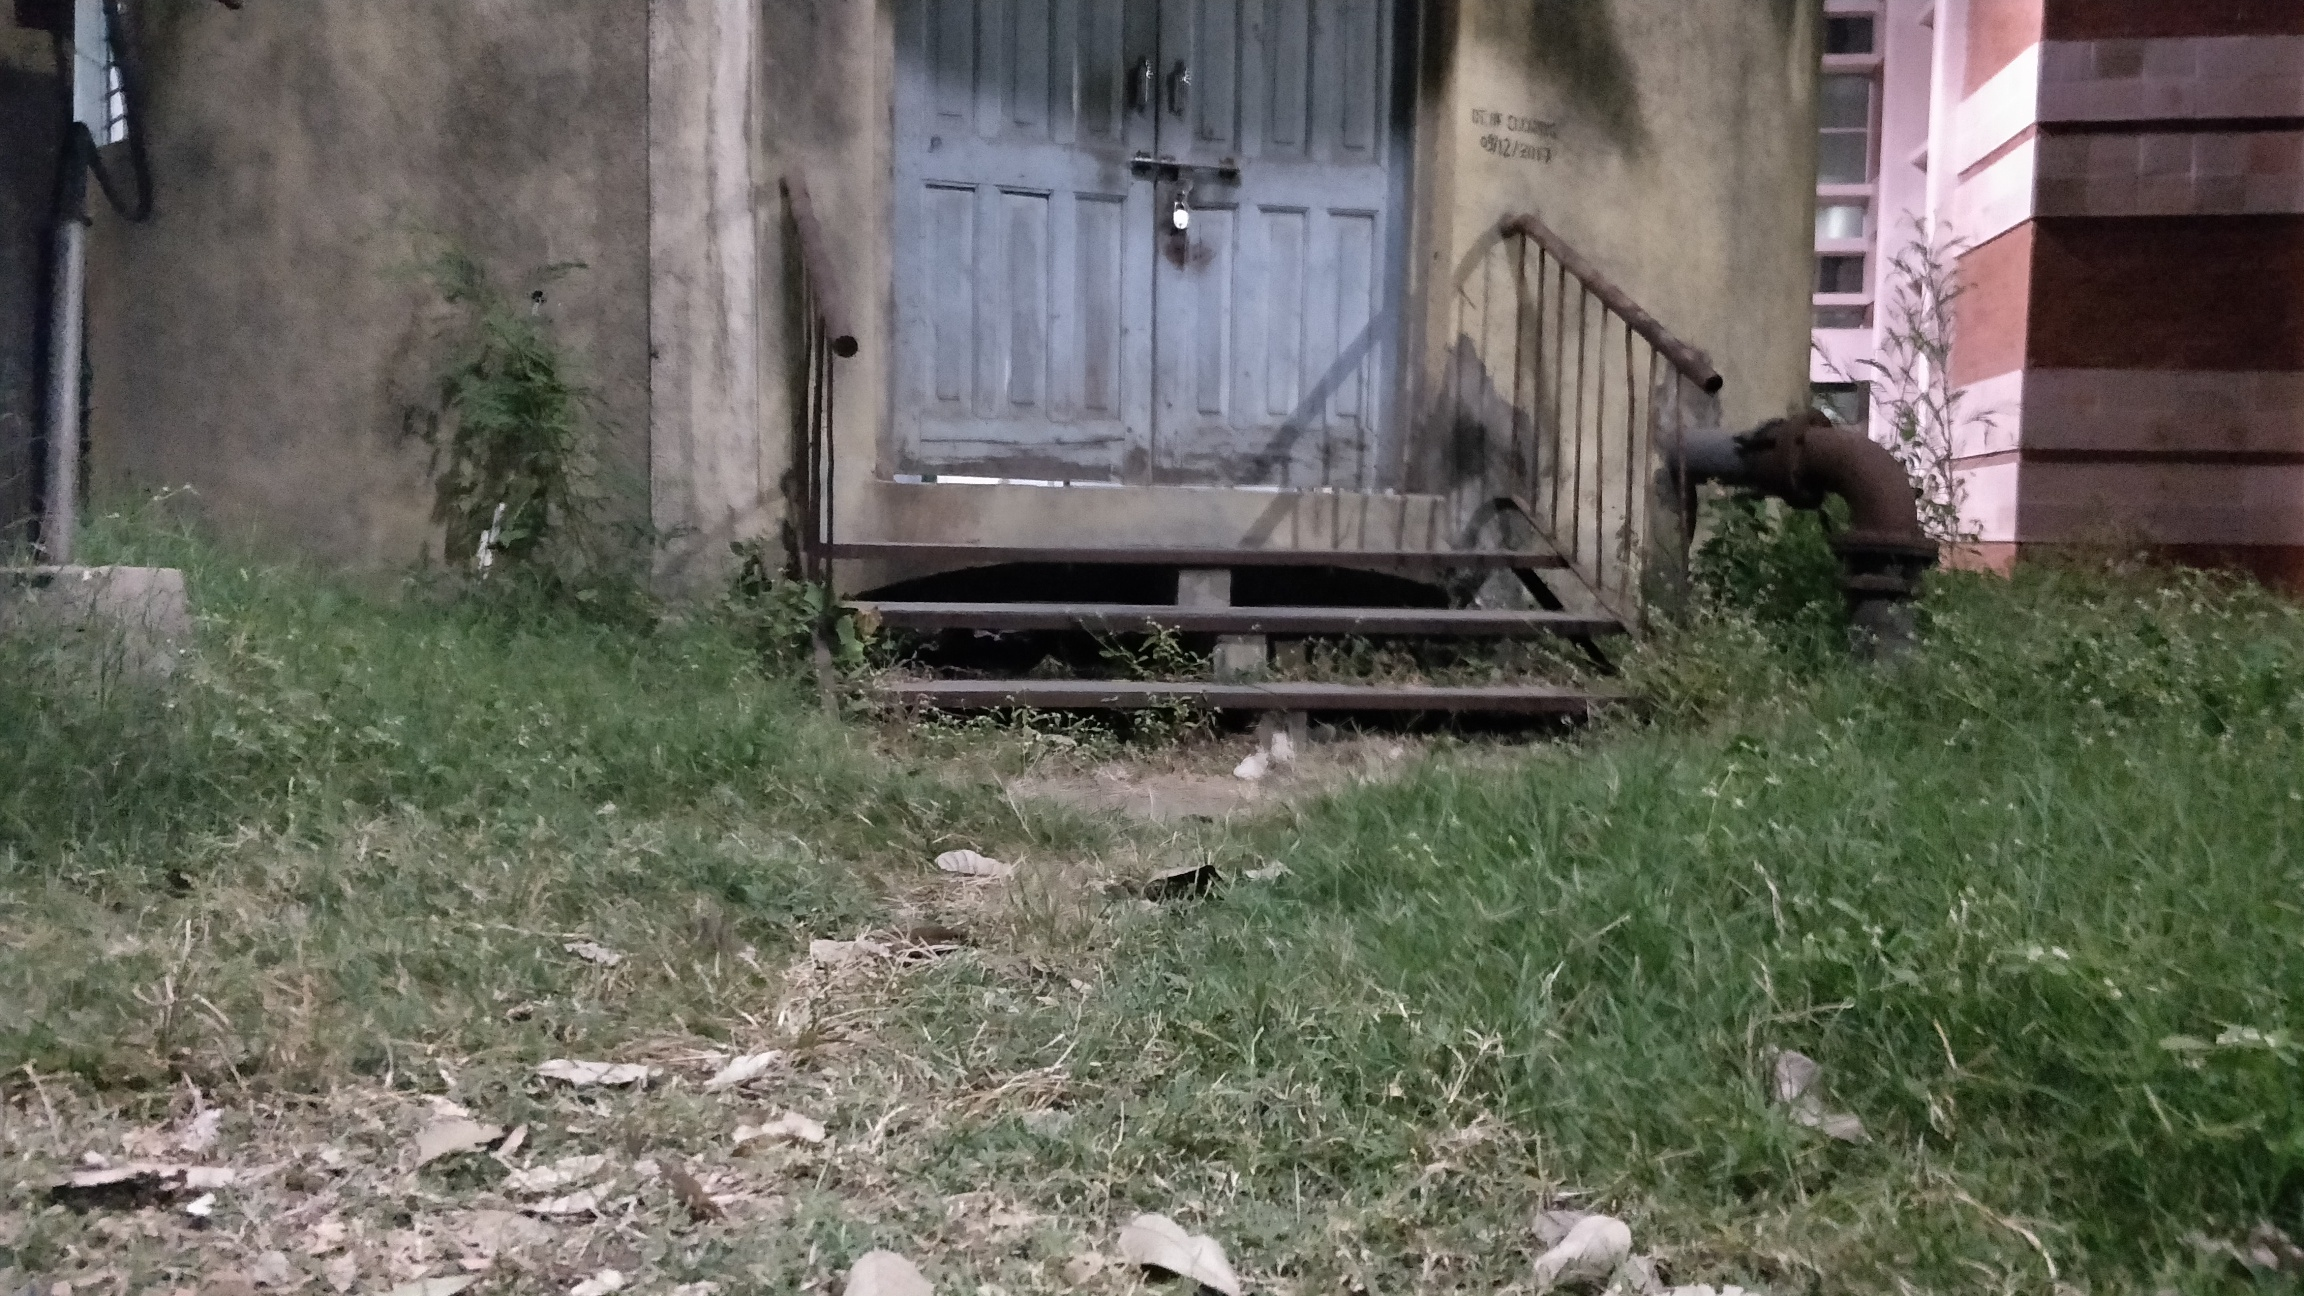stairs_up: (810, 527, 1628, 747)
